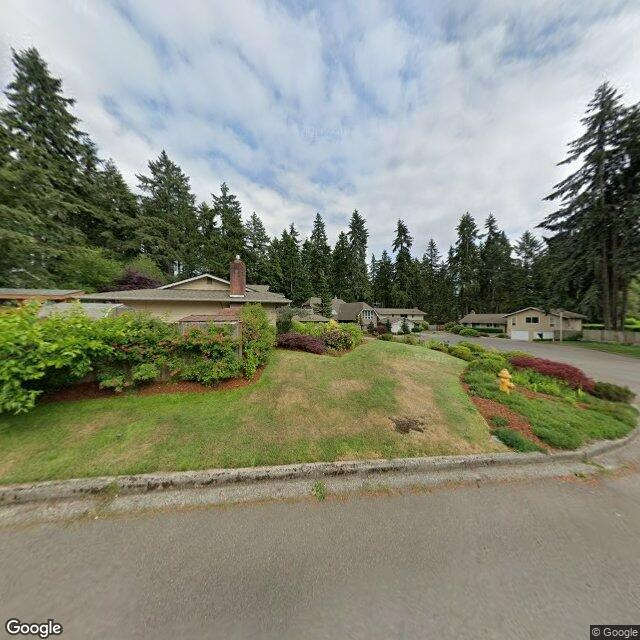hydrant: (487, 365, 519, 399)
